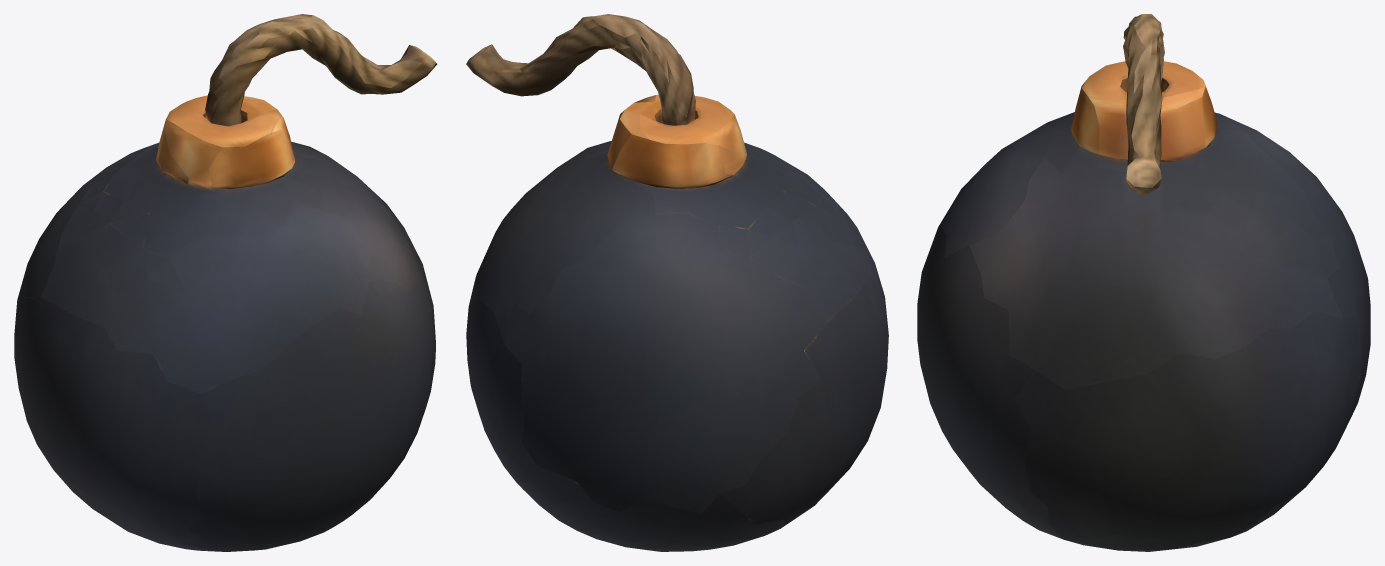
Rendered from PRJ-02.glb.
The picture shows the model from 3 angles, left to right: view 1: azimuth 30°, elevation 25°; view 2: azimuth 150°, elevation 25°; view 3: azimuth 270°, elevation 25°; orthographic projection. The views are drawn at different scales.
Parts seen in each view (by area): view 1: PRJ-02; view 2: PRJ-02; view 3: PRJ-02.
Part boxes in pixels (x1,y1,x2,y2): PRJ-02: [14, 14, 437, 551]; PRJ-02: [466, 14, 888, 551]; PRJ-02: [917, 14, 1370, 551].
Size of the model in its own units: 0.3168 by 0.38 by 0.2981.
Materials: 1 (1 with a texture image).
